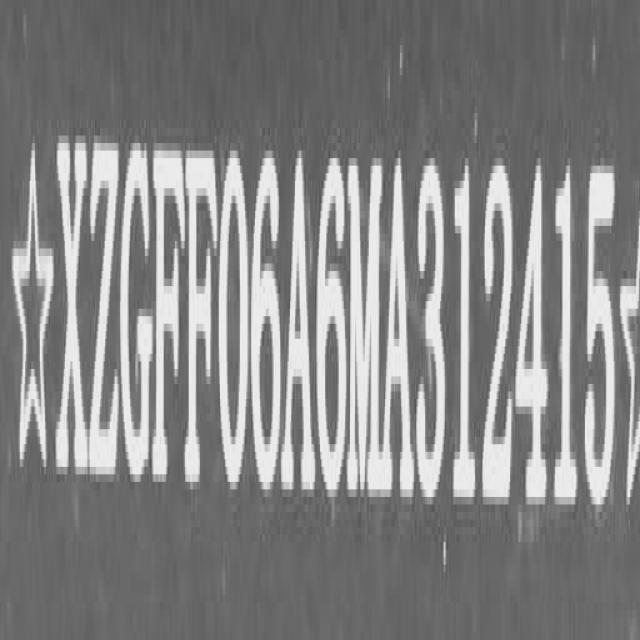0: (218, 140, 250, 503)
1: (452, 146, 478, 519), (556, 152, 580, 521)
2: (481, 146, 515, 518)
3: (418, 152, 450, 516)
4: (516, 150, 552, 522)
5: (585, 152, 619, 518)
6: (316, 147, 349, 508), (252, 139, 284, 503)
A: (384, 146, 416, 508), (286, 145, 315, 509)
F: (155, 126, 186, 496), (189, 132, 220, 498)
G: (123, 128, 155, 495)
M: (350, 147, 382, 510)
X: (56, 126, 88, 496)
Z: (90, 130, 120, 495)
